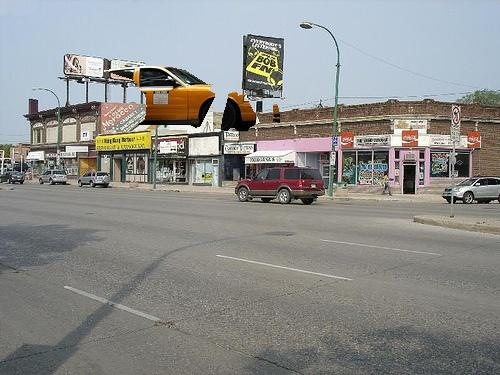tampered: (105, 67, 280, 131)
